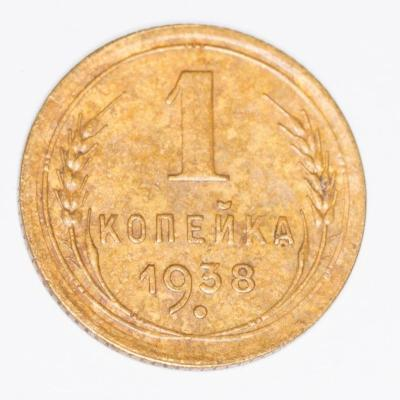numismatics: (20, 25, 365, 368)
